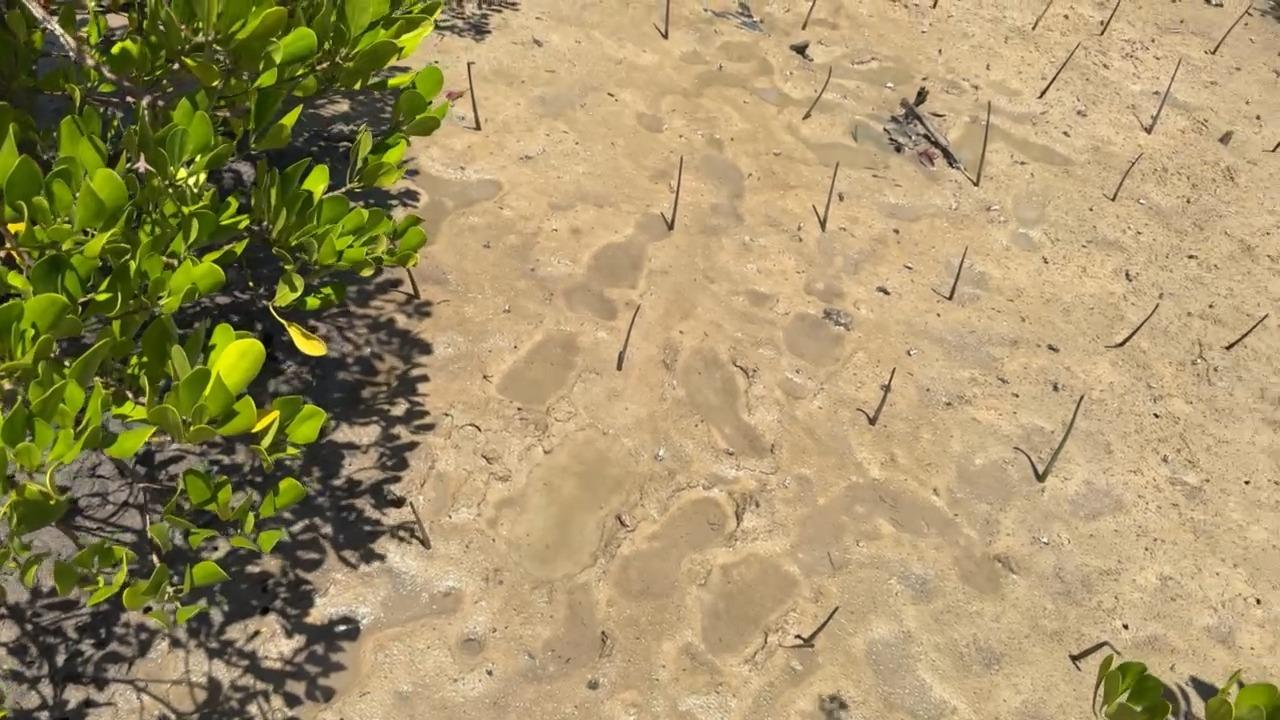Tree: (1038, 395, 1085, 483), (1147, 58, 1183, 134), (1038, 43, 1081, 98), (1213, 4, 1253, 54), (1119, 302, 1158, 347), (1111, 151, 1145, 201), (617, 304, 643, 369), (802, 67, 832, 121), (1226, 313, 1269, 348), (871, 367, 896, 425), (803, 606, 840, 644), (976, 102, 992, 187), (822, 161, 840, 231), (409, 502, 432, 551), (467, 60, 482, 130), (1070, 640, 1122, 660), (949, 247, 968, 301), (670, 157, 683, 230), (1102, 0, 1120, 35), (1033, 3, 1052, 31), (407, 266, 421, 300), (803, 0, 817, 29), (665, 0, 671, 38)
